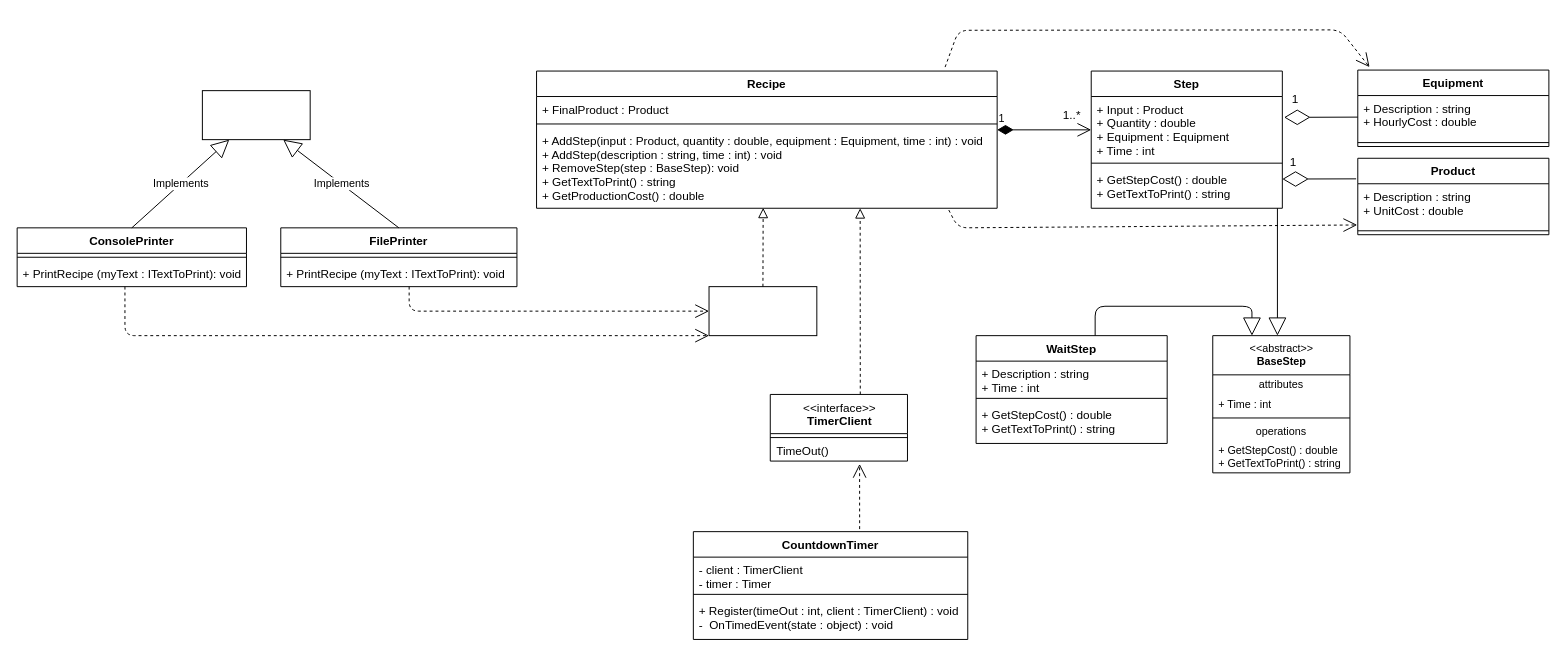
The diagram is 1566 pixels wide and 660 high, and some of its shapes have lost their labels. Here are the shapes that lost their labels. From the top down, the centre of each, then its label:
the point at 255,115: «interface» IPrinter
the point at 762,311: «interface» ITextToPrint
